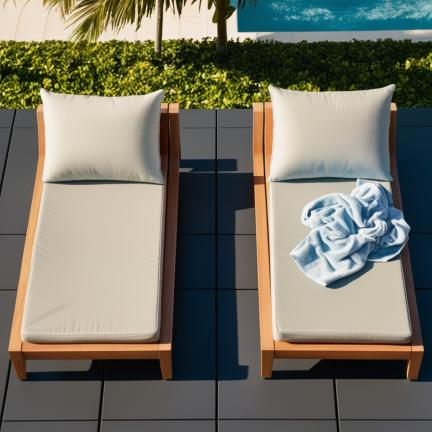empty chair: (8, 89, 180, 379)
occupied chair: (253, 85, 424, 379)
